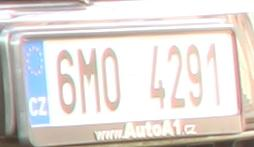0: (99, 47, 122, 109)
1: (207, 42, 221, 105)
2: (166, 44, 185, 109)
4: (149, 44, 165, 108)
6: (56, 47, 77, 114)
9: (183, 46, 203, 106)
M: (75, 49, 101, 112)
